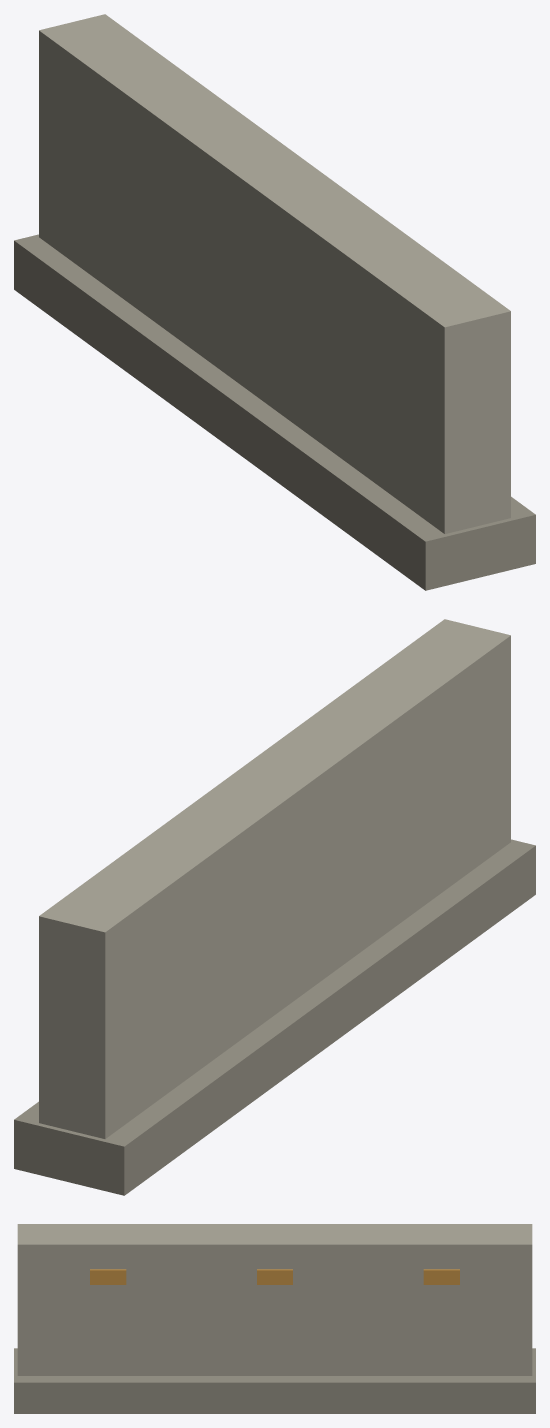
The model's file is weathered_road_barrier.glb.
3 renders of one model, top to bottom at view 1: azimuth 30°, elevation 25°; view 2: azimuth 150°, elevation 25°; view 3: azimuth 270°, elevation 25°, orthographic. The views are drawn at different scales.
Visible parts, largest first — view 1: Barrier body, Barrier foot; view 2: Barrier body, Barrier foot; view 3: Barrier body, Barrier foot, Reflector, Reflector.002, Reflector.001.
Part boxes in pixels (x1,y1,x2,y2): Barrier body: (39,14,510,533); Barrier foot: (14,234,535,590); Barrier body: (39,619,510,1138); Barrier foot: (14,839,535,1195); Barrier body: (17,1224,532,1375); Barrier foot: (14,1348,535,1413); Reflector: (90,1269,126,1284); Reflector.002: (423,1269,459,1284); Reflector.001: (257,1269,292,1284).
Size of the model in its own units: 0.341 by 0.755 by 2.2.
